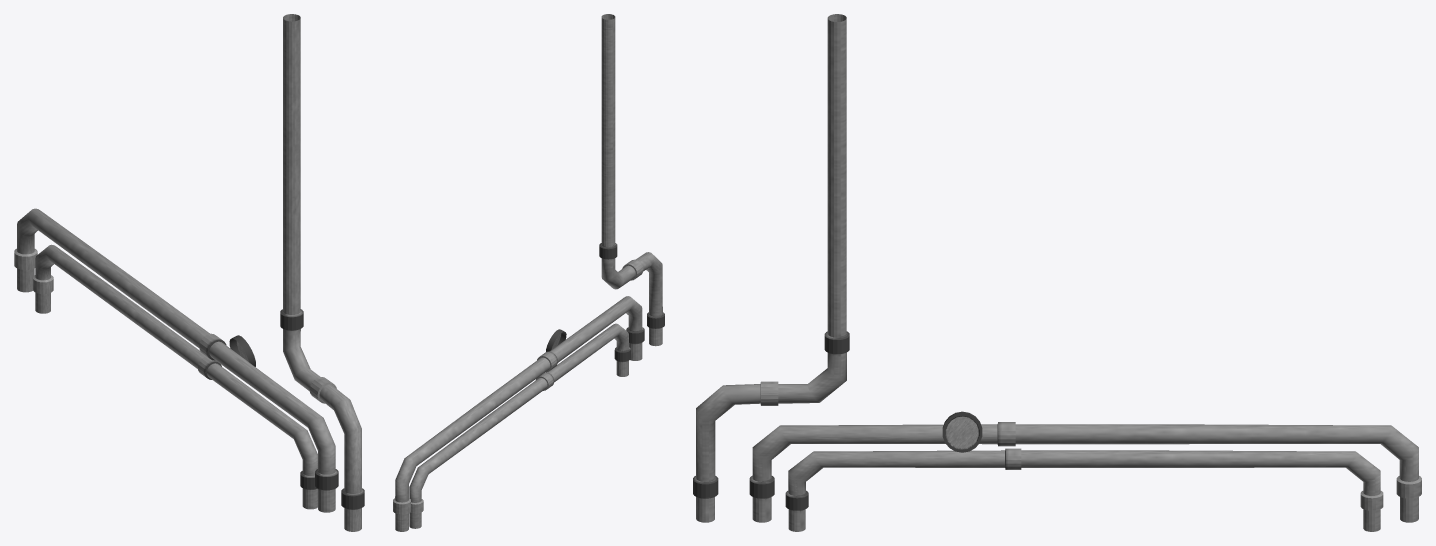
Rendered from HallwayPart_Pipe3.fbx.
3 views of the same model, side by side, from view 1: azimuth 30°, elevation 25°; view 2: azimuth 150°, elevation 25°; view 3: azimuth 270°, elevation 25° (orthographic). The views are drawn at different scales.
Visible parts, largest first — view 1: pipe007; view 2: pipe007; view 3: pipe007.
Boxes of the visible parts, x1,y1,x2,y2 form: pipe007: (14,14,364,531); pipe007: (393,14,664,531); pipe007: (693,14,1421,531).
Bounding box in the file's own units: 1.47 × 24.99 × 32.35.
